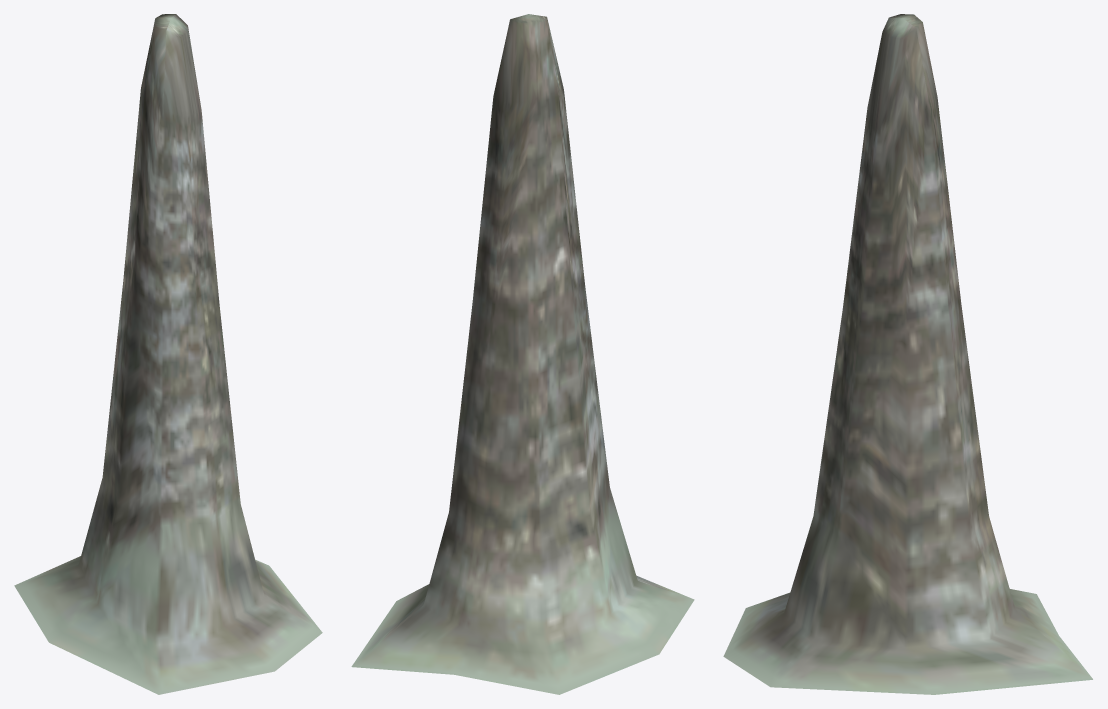
The model's file is TROLLHOLE02_PS-MAINSTALAG37.fbx.
The picture shows the model from 3 angles, left to right: view 1: azimuth 30°, elevation 25°; view 2: azimuth 150°, elevation 25°; view 3: azimuth 270°, elevation 25°; orthographic projection. The views are drawn at different scales.
Parts seen in each view (by area): view 1: TROLLHOLE02_PS-MAINSTALAG37; view 2: TROLLHOLE02_PS-MAINSTALAG37; view 3: TROLLHOLE02_PS-MAINSTALAG37.
Boxes of the visible parts, bbox=[...] form: TROLLHOLE02_PS-MAINSTALAG37: bbox=[14, 14, 322, 694]; TROLLHOLE02_PS-MAINSTALAG37: bbox=[351, 14, 694, 694]; TROLLHOLE02_PS-MAINSTALAG37: bbox=[723, 14, 1092, 694].
Size of the model in its own units: 22042 by 53266 by 28176.
Materials: 1 (1 with a texture image).
